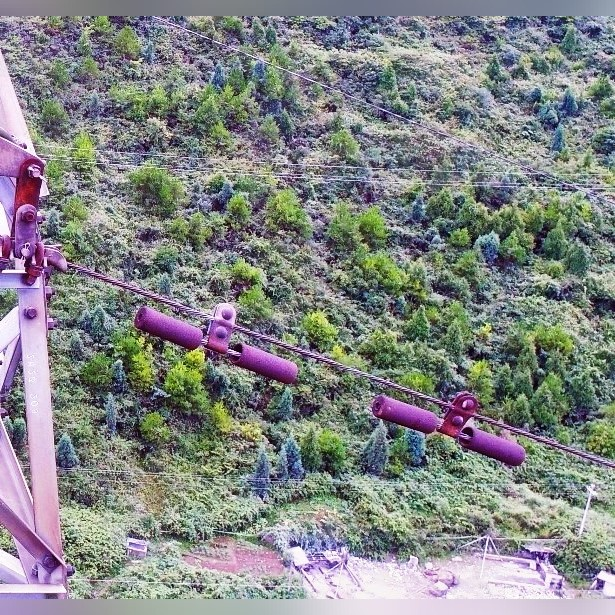Shockproof hammer: (369, 368, 530, 475), (131, 290, 301, 387)
